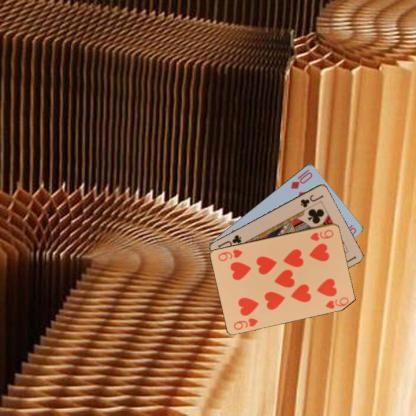10d: (288, 166, 314, 190)
9h: (231, 315, 260, 331), (308, 227, 335, 242)
Jc: (298, 192, 324, 209)
